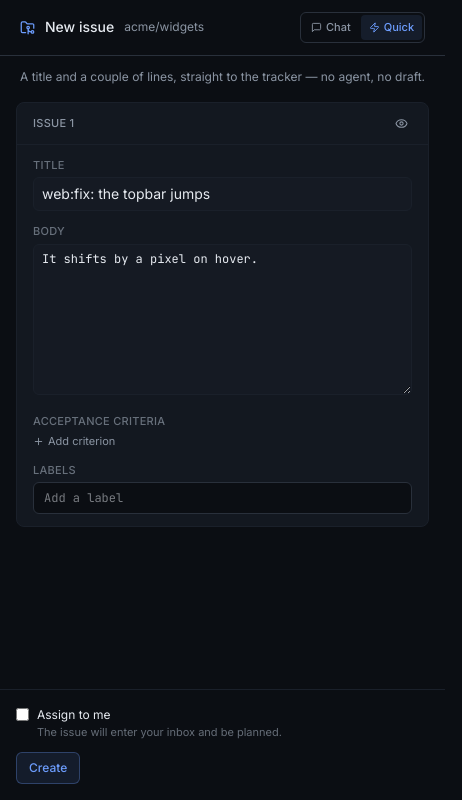
Test case: QuickView unfinished drafts › removes the draft it resumed once every issue reached the tracker
Expected: the field named "Title" holds "web:fix: the topbar jumps", [33,177,412,211]
Click the button "Create".
click(48, 768)  # box [16,752,80,784]
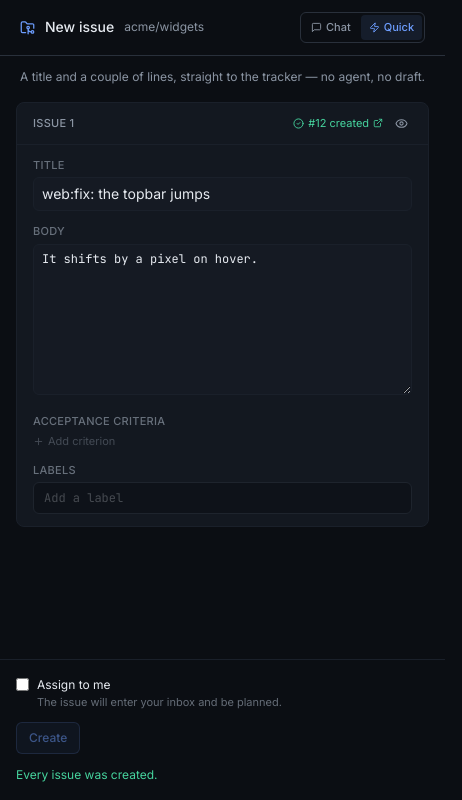
Result: the button "#12 created" is shown at [293,115,383,131]
